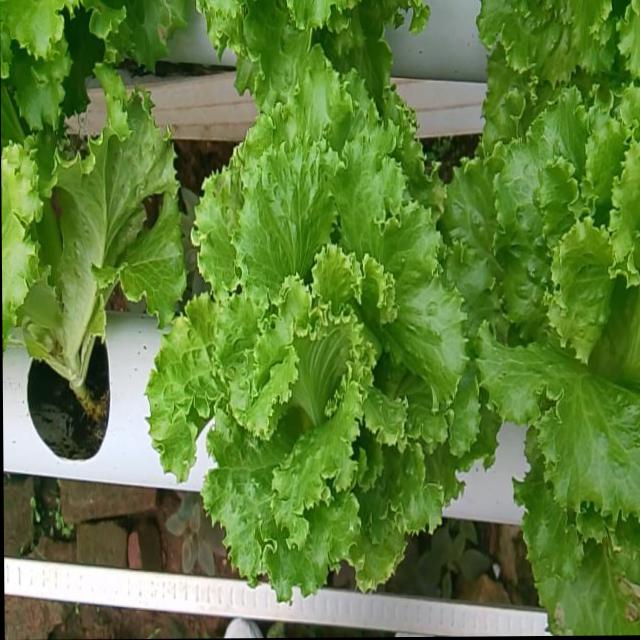Mature: (143, 78, 478, 618), (442, 97, 640, 539)
